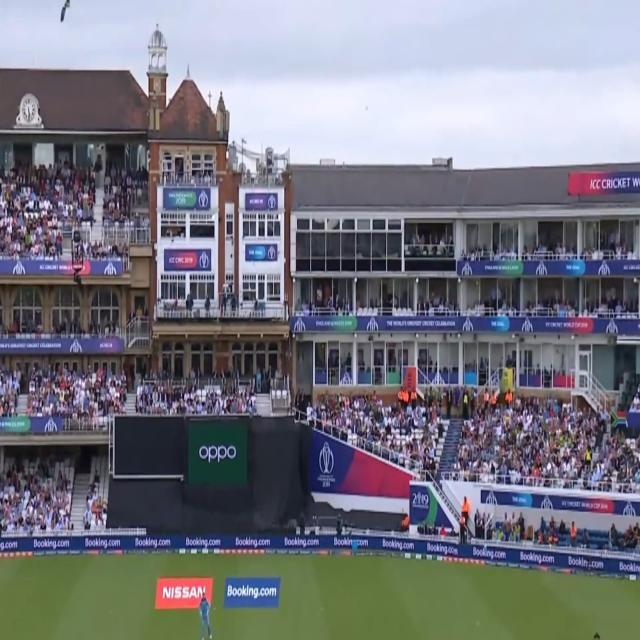ball: (361, 98, 372, 118)
